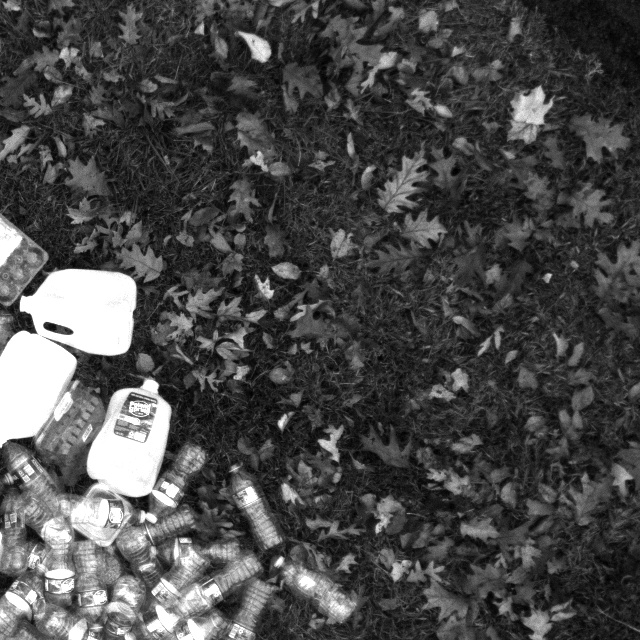bottle: (168, 540, 268, 619), (269, 552, 362, 629), (218, 454, 287, 556), (138, 437, 212, 530), (0, 434, 70, 518), (143, 539, 217, 616), (112, 499, 201, 561), (112, 526, 175, 605), (1, 487, 66, 553), (216, 571, 276, 640), (30, 491, 135, 528), (95, 567, 148, 638), (74, 532, 104, 626), (39, 540, 73, 612)
can: (11, 264, 146, 363), (81, 372, 175, 501), (0, 326, 81, 454)
container: (31, 375, 117, 488)
